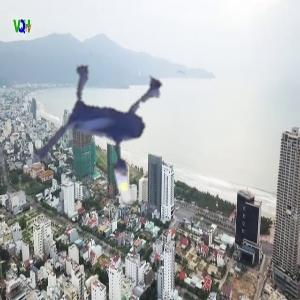drone: (3, 41, 206, 244)
